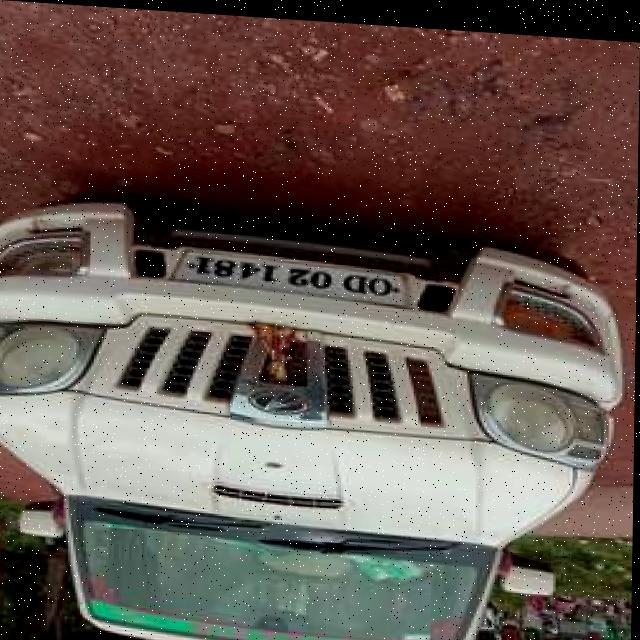plate: (169, 244, 411, 304)
